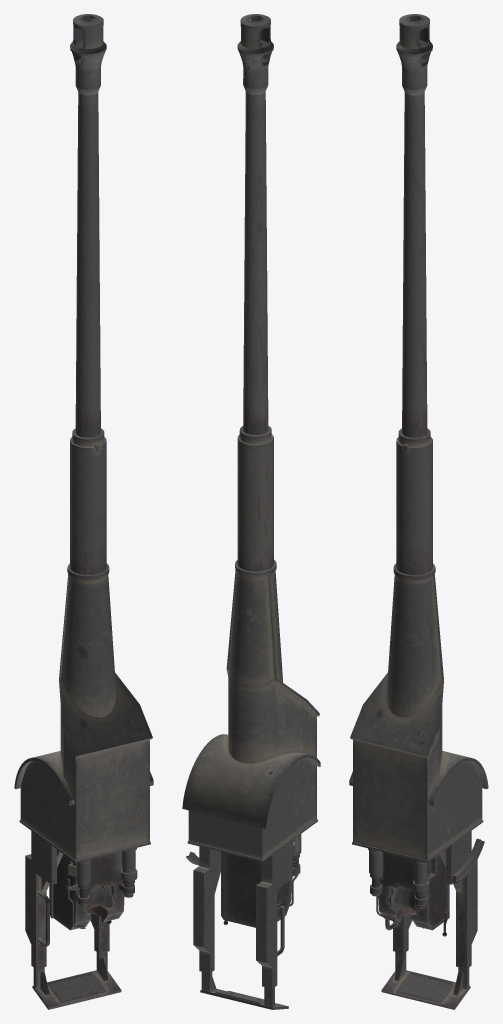
File: Gun_01.glb
3 views of the same model, side by side, from view 1: azimuth 30°, elevation 25°; view 2: azimuth 150°, elevation 25°; view 3: azimuth 330°, elevation 25° (orthographic).
Parts seen in each view (by area): view 1: set_0_group_0; view 2: set_0_group_0; view 3: set_0_group_0.
Part boxes in pixels (left/top/right/bottom): set_0_group_0: left=14, top=14, right=153, bottom=1009; set_0_group_0: left=182, top=14, right=320, bottom=1009; set_0_group_0: left=349, top=14, right=488, bottom=1009.
Bounding box in the file's own units: 0.6481 × 7.24 × 0.7733.
Materials: 1 (1 with a texture image).
